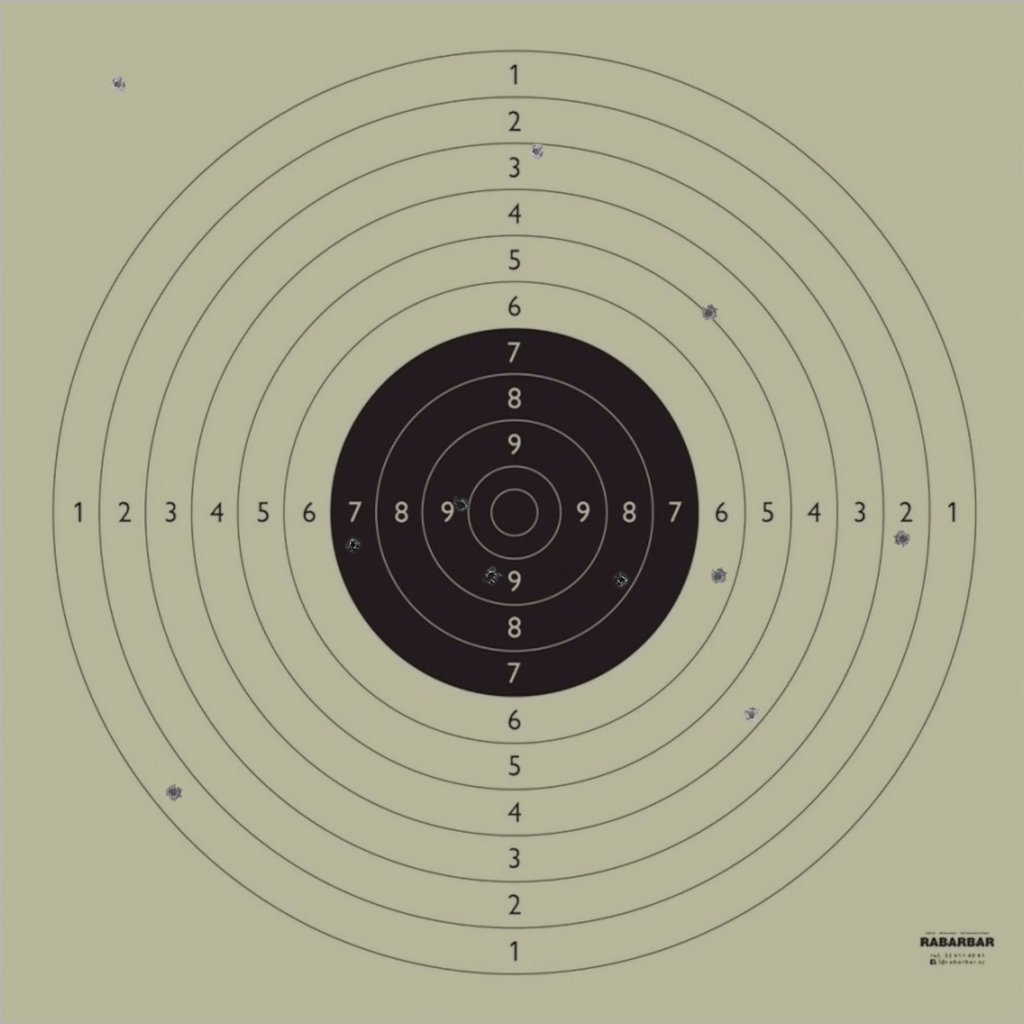0 punktow: (109, 75, 127, 93)
1 punkt: (164, 783, 183, 802)
10 punktow: (452, 495, 470, 514)
2 punkty: (893, 529, 912, 548)
3 punkty: (527, 142, 545, 161)
4 punkty: (742, 706, 761, 724)
5 punktow: (700, 304, 718, 322)
6 punktow: (709, 567, 728, 585)
7 punktow: (344, 535, 362, 554)
8 punktow: (613, 571, 631, 589)
9 punktow: (482, 567, 500, 585)
